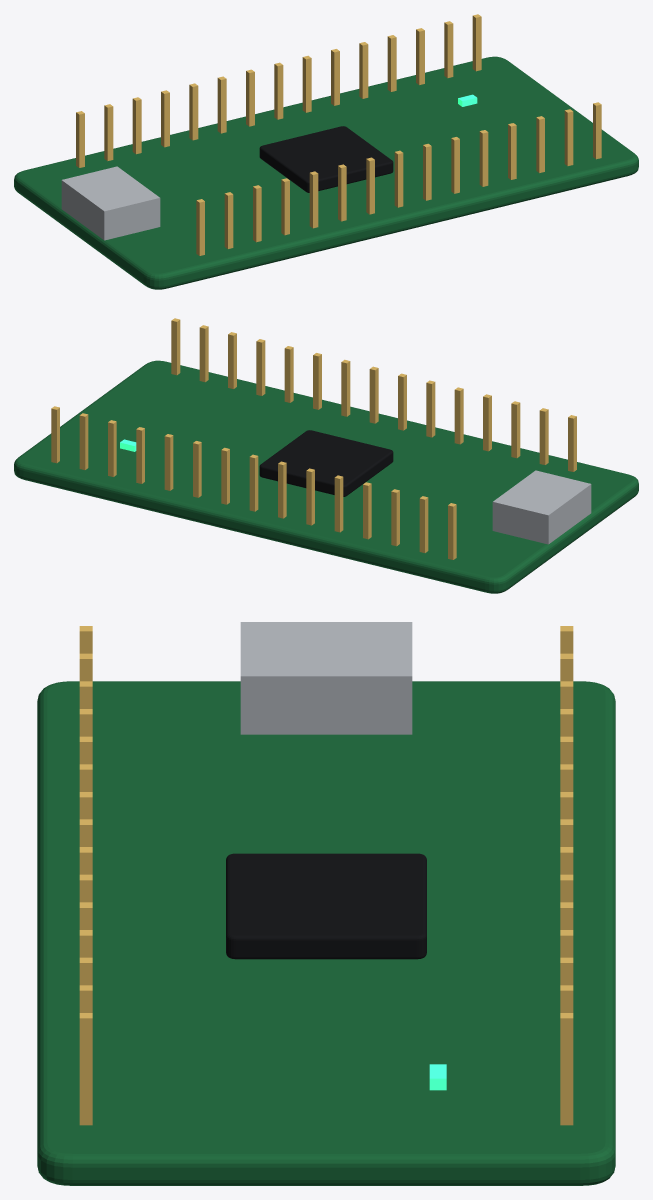
Rendered from plytkaMCU.glb.
The picture shows the model from 3 angles, top to bottom: view 1: azimuth 30°, elevation 25°; view 2: azimuth 150°, elevation 25°; view 3: azimuth 270°, elevation 25°; orthographic projection. The views are drawn at different scales.
Visible parts, largest first — view 1: Płytka mikrokontrolera (×2), Złącze USB, Mikrokontroler; view 2: Płytka mikrokontrolera (×2), Złącze USB, Mikrokontroler; view 3: Płytka mikrokontrolera (×2), Mikrokontroler, Złącze USB.
Boxes of the visible parts, bbox=[...] form: Płytka mikrokontrolera (×2): bbox=[14, 14, 638, 289]; Złącze USB: bbox=[61, 166, 160, 240]; Mikrokontroler: bbox=[259, 126, 393, 192]; Płytka mikrokontrolera (×2): bbox=[14, 318, 638, 593]; Złącze USB: bbox=[492, 470, 591, 544]; Mikrokontroler: bbox=[259, 430, 393, 496]; Płytka mikrokontrolera (×2): bbox=[37, 626, 615, 1185]; Mikrokontroler: bbox=[226, 853, 426, 959]; Złącze USB: bbox=[240, 622, 412, 734].
Bounding box in the file's own units: 0.053 × 0.00715 × 0.027.
